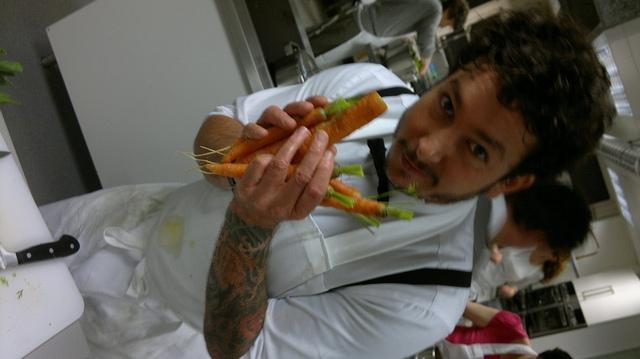carrot: (233, 89, 388, 164), (221, 106, 327, 164), (181, 162, 364, 182), (320, 196, 414, 221), (330, 178, 362, 198)
